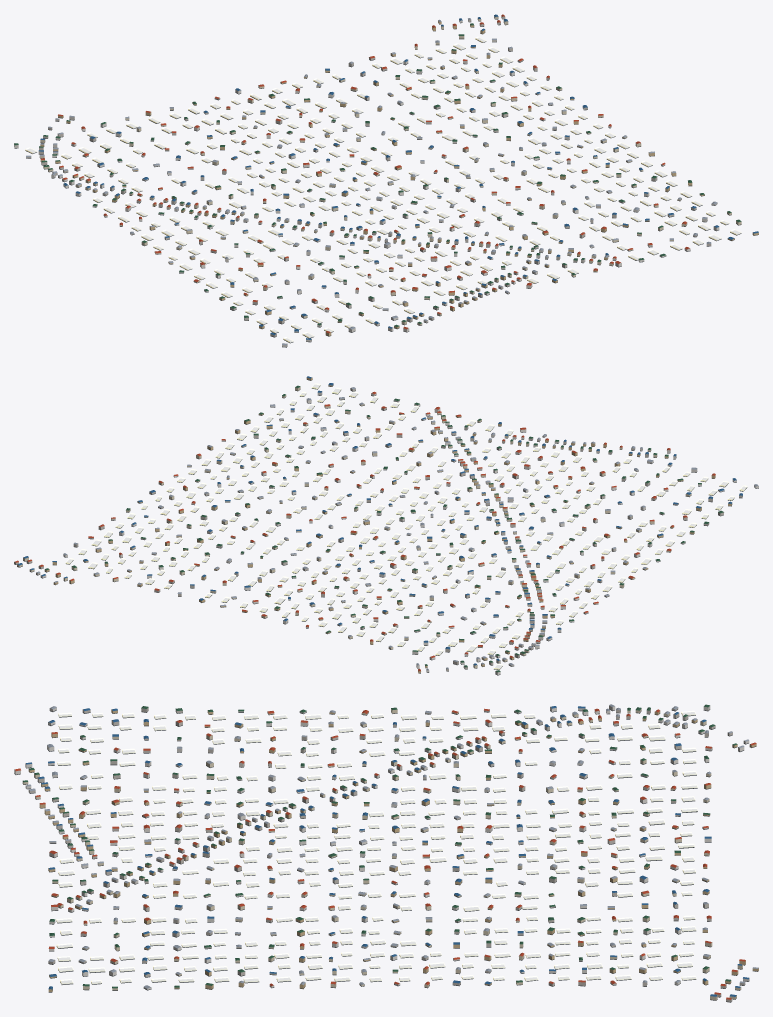
The model's file is buildings_T_W08_N01.glb.
3 views of the same model, one above another, from view 1: azimuth 30°, elevation 25°; view 2: azimuth 150°, elevation 25°; view 3: azimuth 270°, elevation 25° (orthographic). The views are drawn at different scales.
Parts seen in each view (by area): view 1: T_W08_N01_roofs_agri_greenhouse_arch, T_W08_N01_slope_seating_foundations, T_W08_N01_walls_wall_french_ochre_villa, T_W08_N01_walls_wall_dalat_cream_stucco, T_W08_N01_walls_wall_modern_warm_white, T_W08_N01_walls_wall_pastel_sand_gray, T_W08_N01_roofs_roof_zinc_silver_gable, T_W08_N01_roofs_roof_pine_green_hip, T_W08_N01_roofs_roof_terracotta_gable, T_W08_N01_roofs_roof_highland_blue_gable; view 2: T_W08_N01_roofs_agri_greenhouse_arch, T_W08_N01_slope_seating_foundations, T_W08_N01_walls_wall_french_ochre_villa, T_W08_N01_walls_wall_dalat_cream_stucco, T_W08_N01_walls_wall_modern_warm_white, T_W08_N01_walls_wall_pastel_sand_gray, T_W08_N01_roofs_roof_zinc_silver_gable, T_W08_N01_roofs_roof_terracotta_gable, T_W08_N01_roofs_roof_pine_green_hip, T_W08_N01_roofs_roof_highland_blue_gable; view 3: T_W08_N01_roofs_agri_greenhouse_arch, T_W08_N01_slope_seating_foundations, T_W08_N01_walls_wall_french_ochre_villa, T_W08_N01_walls_wall_dalat_cream_stucco, T_W08_N01_walls_wall_modern_warm_white, T_W08_N01_walls_wall_pastel_sand_gray, T_W08_N01_roofs_roof_zinc_silver_gable, T_W08_N01_roofs_roof_terracotta_gable, T_W08_N01_roofs_roof_pine_green_hip, T_W08_N01_roofs_roof_highland_blue_gable.
Boxes of the visible parts, x1,y1,x2,y2 form: T_W08_N01_roofs_agri_greenhouse_arch: (25,36,741,342); T_W08_N01_slope_seating_foundations: (14,17,758,347); T_W08_N01_walls_wall_french_ochre_villa: (40,20,758,335); T_W08_N01_walls_wall_dalat_cream_stucco: (39,16,741,325); T_W08_N01_walls_wall_modern_warm_white: (14,19,719,346); T_W08_N01_walls_wall_pastel_sand_gray: (26,16,711,336); T_W08_N01_roofs_roof_zinc_silver_gable: (26,18,717,345); T_W08_N01_roofs_roof_pine_green_hip: (14,23,741,326); T_W08_N01_roofs_roof_terracotta_gable: (40,14,689,333); T_W08_N01_roofs_roof_highland_blue_gable: (38,14,758,339); T_W08_N01_roofs_agri_greenhouse_arch: (65,383,747,669); T_W08_N01_slope_seating_foundations: (14,379,758,675); T_W08_N01_walls_wall_french_ochre_villa: (44,377,732,673); T_W08_N01_walls_wall_dalat_cream_stucco: (17,387,691,668); T_W08_N01_walls_wall_modern_warm_white: (40,391,758,674); T_W08_N01_walls_wall_pastel_sand_gray: (14,388,742,671); T_W08_N01_roofs_roof_zinc_silver_gable: (36,387,758,670); T_W08_N01_roofs_roof_terracotta_gable: (15,391,715,671); T_W08_N01_roofs_roof_pine_green_hip: (45,385,723,672); T_W08_N01_roofs_roof_highland_blue_gable: (18,376,742,665); T_W08_N01_roofs_agri_greenhouse_arch: (56,710,697,984); T_W08_N01_slope_seating_foundations: (14,709,758,1002); T_W08_N01_walls_wall_french_ochre_villa: (28,709,758,991); T_W08_N01_walls_wall_dalat_cream_stucco: (22,708,742,1000); T_W08_N01_walls_wall_modern_warm_white: (14,705,749,989); T_W08_N01_walls_wall_pastel_sand_gray: (28,707,745,1001); T_W08_N01_roofs_roof_zinc_silver_gable: (26,704,758,988); T_W08_N01_roofs_roof_terracotta_gable: (15,708,756,999); T_W08_N01_roofs_roof_pine_green_hip: (23,704,737,988); T_W08_N01_roofs_roof_highland_blue_gable: (26,706,748,996).
Size of the model in its own units: 1851 by 30.62 by 1961.
